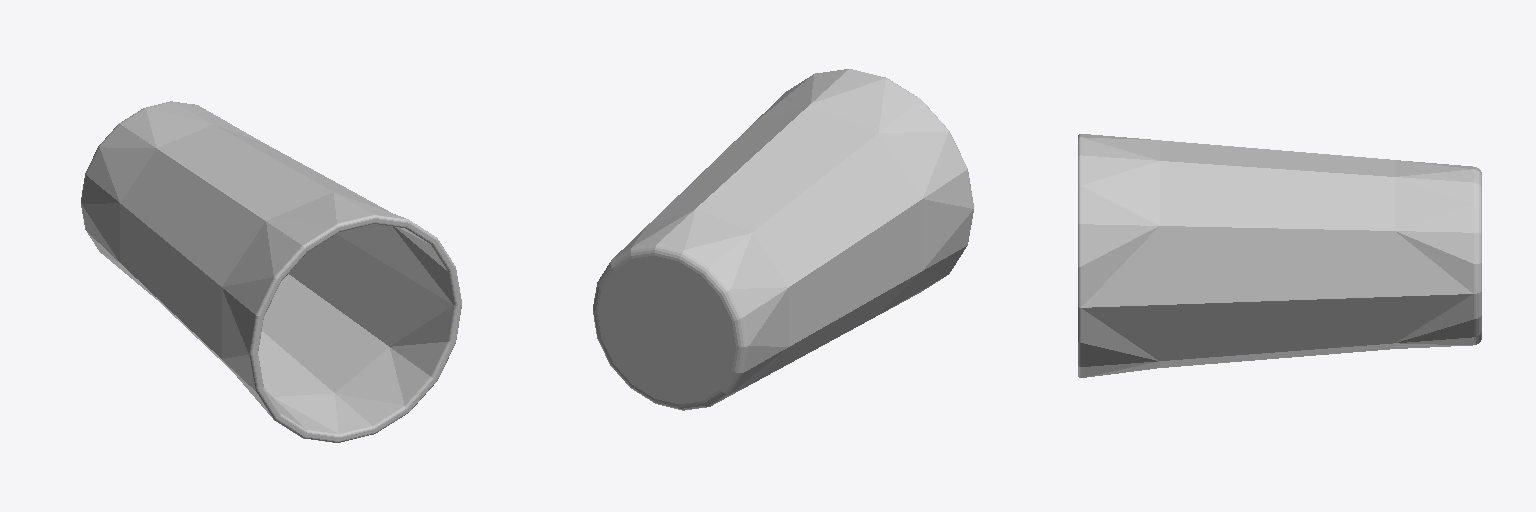
Rendered from cup.obj.
3 renders of one model, left to right at view 1: azimuth 30°, elevation 25°; view 2: azimuth 150°, elevation 25°; view 3: azimuth 270°, elevation 25°, orthographic.
Parts seen in each view (by area): view 1: Body; view 2: Body; view 3: Body.
Boxes of the visible parts, box(x1,y1,x2,y2) form: Body: box(81, 101, 461, 442); Body: box(593, 69, 973, 410); Body: box(1078, 134, 1481, 377).
Size of the model in its own units: 75.82 by 74.67 by 125.